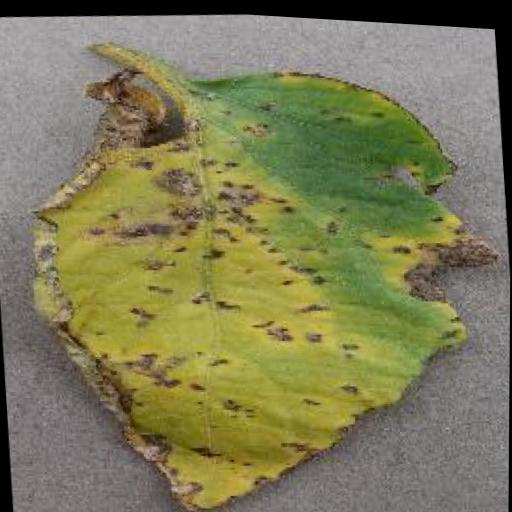Bacterial Spot: (10, 35, 512, 512)
